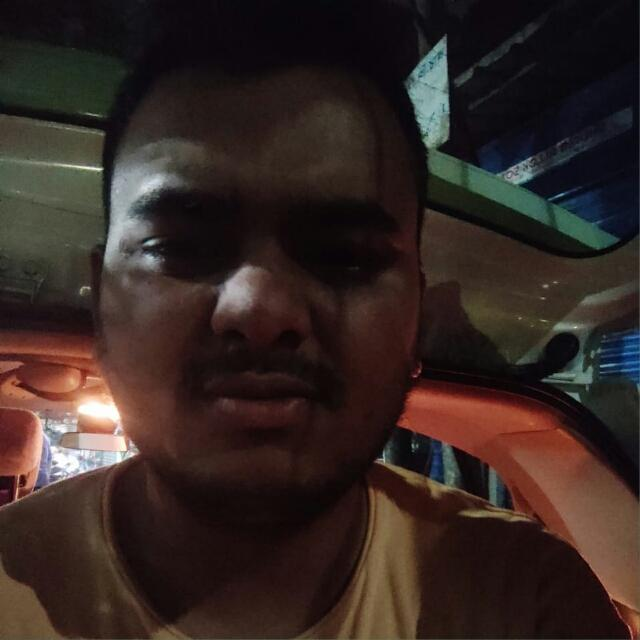Disgust: (79, 20, 448, 533)
